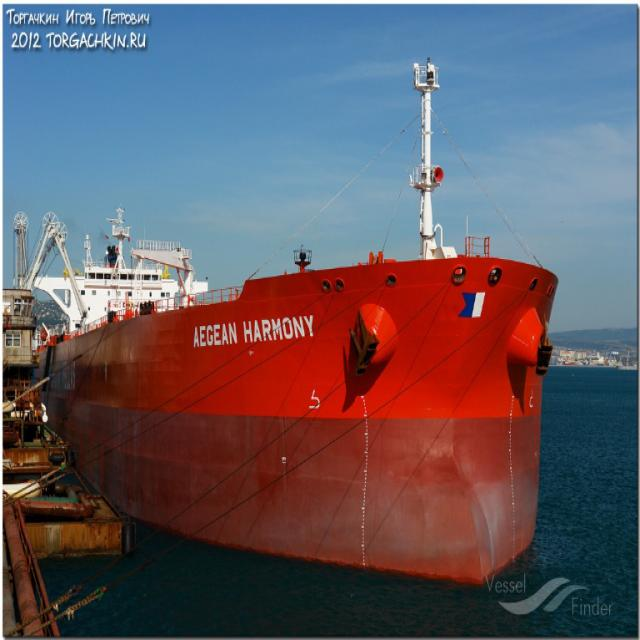Oil Tanker: (45, 202, 558, 578)
